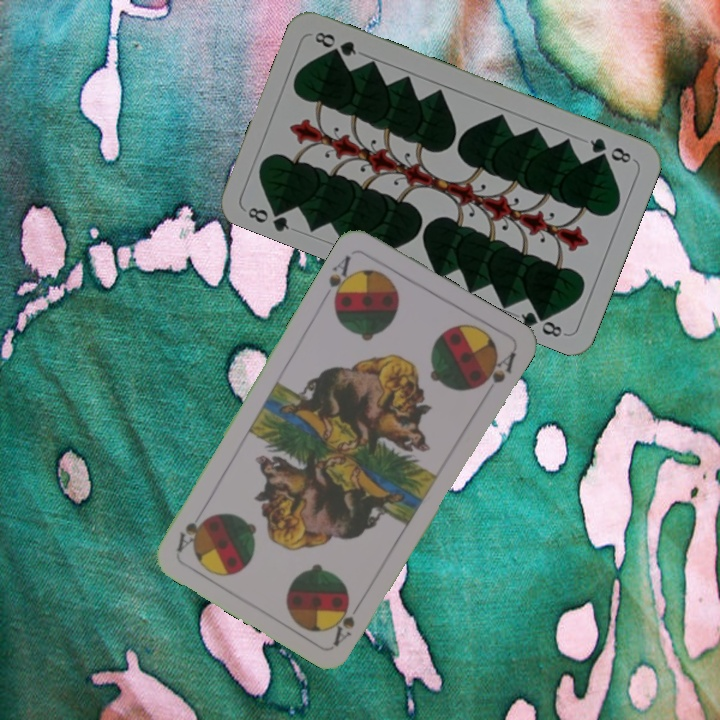G8: (243, 200, 292, 234), (585, 134, 634, 166)
SA: (329, 594, 366, 648), (324, 251, 358, 308)
